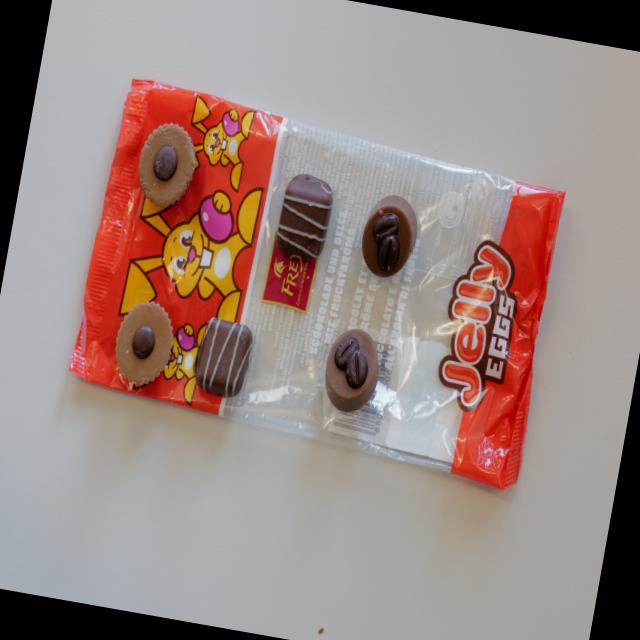Arabia: (317, 322, 386, 417), (355, 191, 422, 280)
Noblesse: (130, 117, 200, 210), (108, 298, 178, 390)
Stracciatella: (272, 172, 336, 264), (189, 314, 254, 402)
